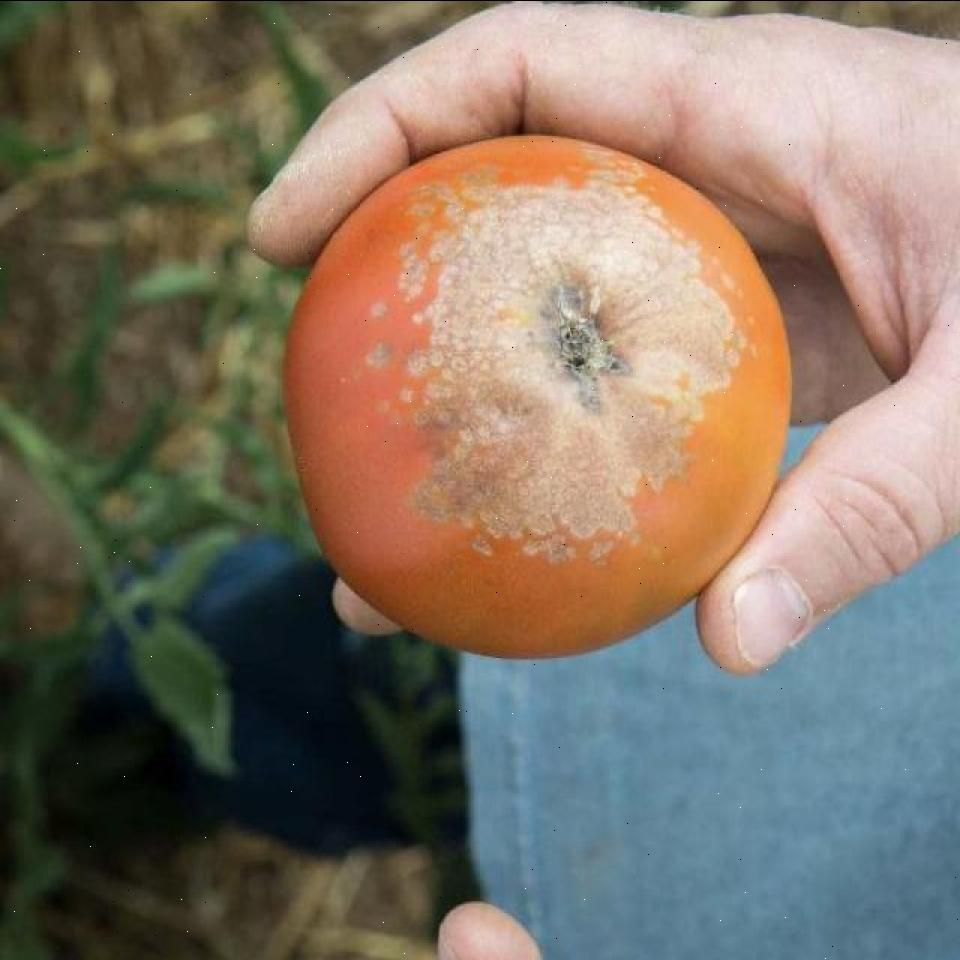Blossom_end_rot: (357, 151, 753, 562)
